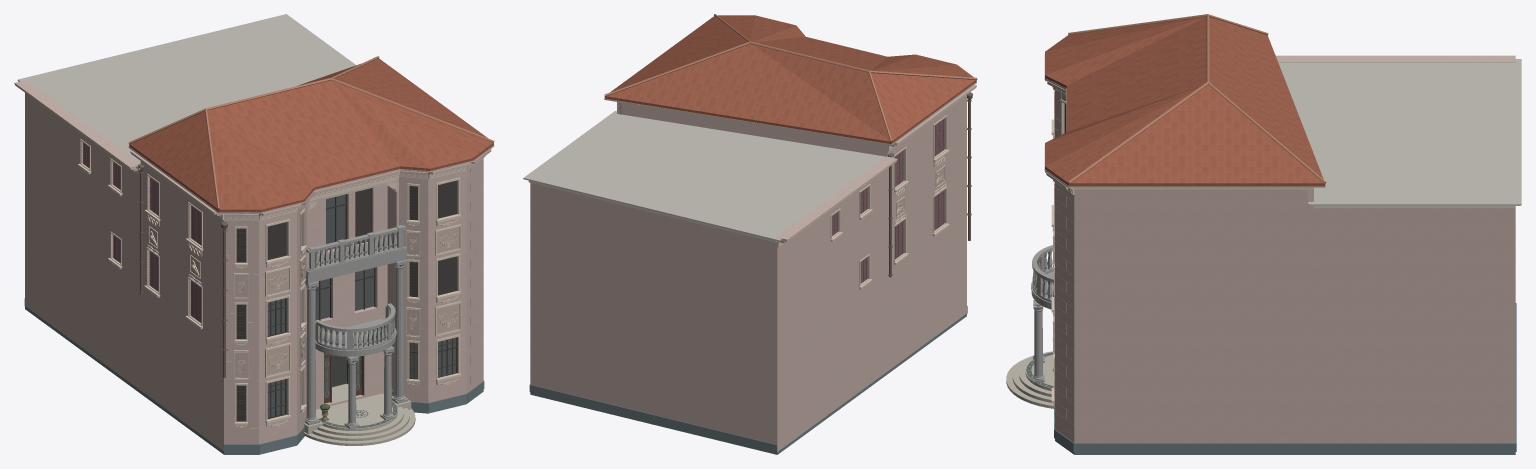
The model's file is xuhui-jianguo-336-lane-one-villa-lod.glb.
3 renders of one model, left to right at view 1: azimuth 30°, elevation 25°; view 2: azimuth 150°, elevation 25°; view 3: azimuth 270°, elevation 25°, orthographic. The views are drawn at different scales.
Visible parts, largest first — view 1: 福德坊1号花园住宅; view 2: 福德坊1号花园住宅; view 3: 福德坊1号花园住宅.
Part boxes in pixels (x1,y1,x2,y2): 福德坊1号花园住宅: [14, 14, 494, 454]; 福德坊1号花园住宅: [523, 14, 977, 454]; 福德坊1号花园住宅: [1006, 14, 1521, 454].
Bounding box in the file's own units: 13.85 × 13.85 × 20.01.
26 materials, 4 textured.
